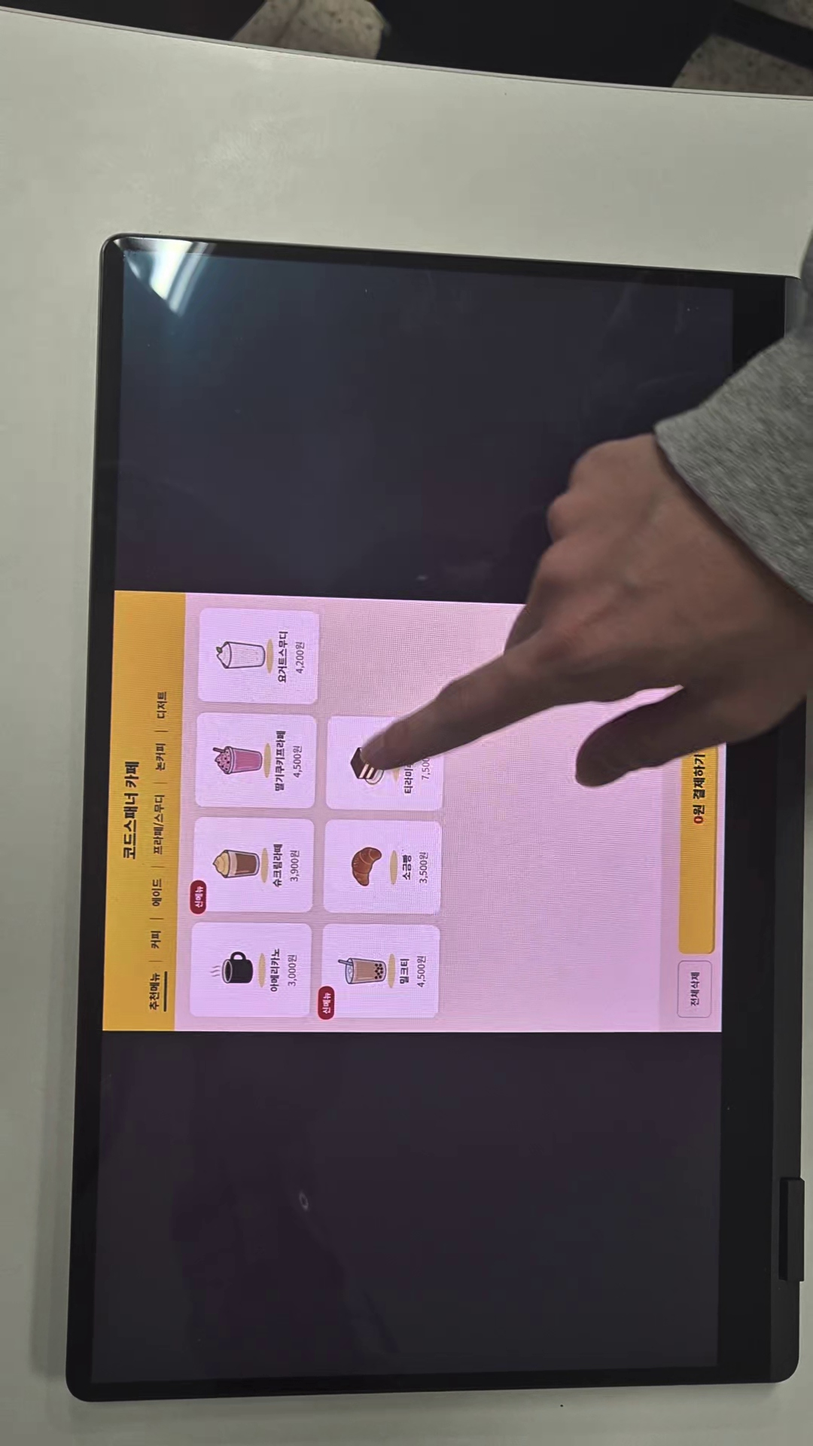action_button: (678, 629, 719, 953), (678, 962, 712, 1020)
category_tab: (149, 790, 169, 859), (152, 737, 174, 776), (147, 871, 167, 911), (146, 968, 162, 1014), (152, 686, 171, 724), (147, 927, 162, 956)
menu_back: (193, 711, 316, 810), (190, 817, 312, 915), (190, 922, 312, 1020), (325, 819, 442, 917), (327, 715, 445, 811), (202, 608, 318, 705), (321, 925, 439, 1017)
menu_name: (269, 726, 286, 792), (274, 628, 291, 687), (401, 738, 416, 800), (270, 839, 285, 889), (268, 945, 283, 992), (397, 848, 415, 887), (398, 955, 409, 986)
menu_price: (290, 737, 307, 789), (294, 639, 308, 680), (414, 951, 429, 988), (420, 743, 431, 786), (290, 846, 302, 884), (286, 951, 299, 986), (419, 851, 431, 887)
